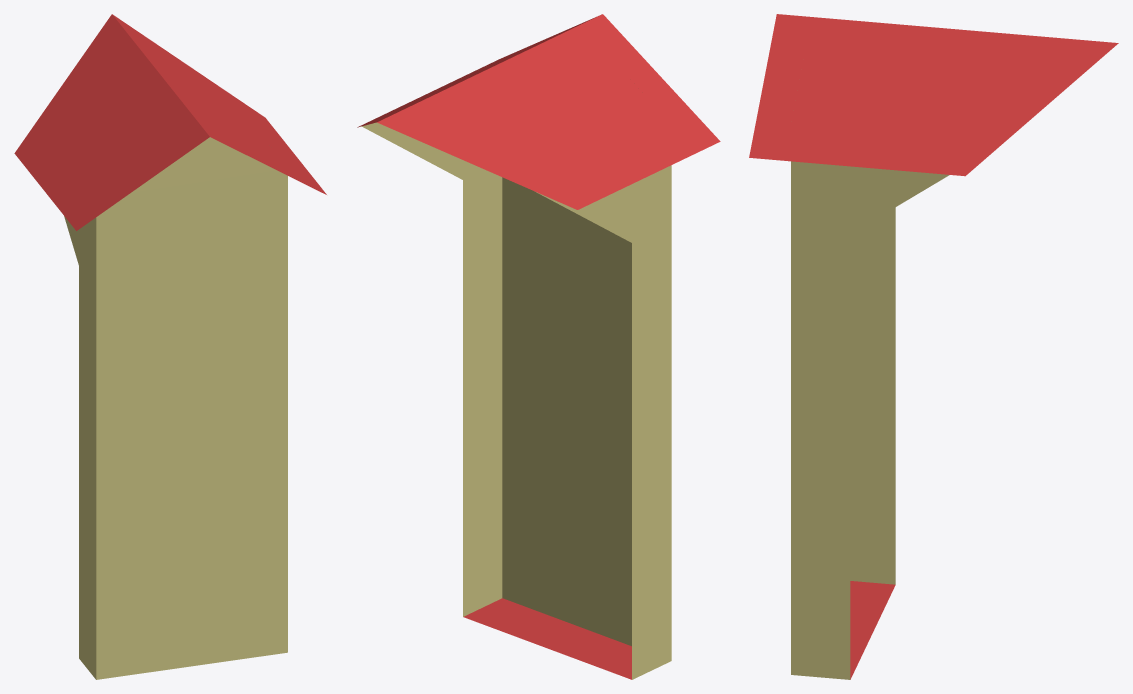
3 views of the same model, side by side, from view 1: azimuth 30°, elevation 25°; view 2: azimuth 150°, elevation 25°; view 3: azimuth 270°, elevation 25° (orthographic). The views are drawn at different scales.
Size of the model in its own units: 4.77 by 5.21 by 9.54.
